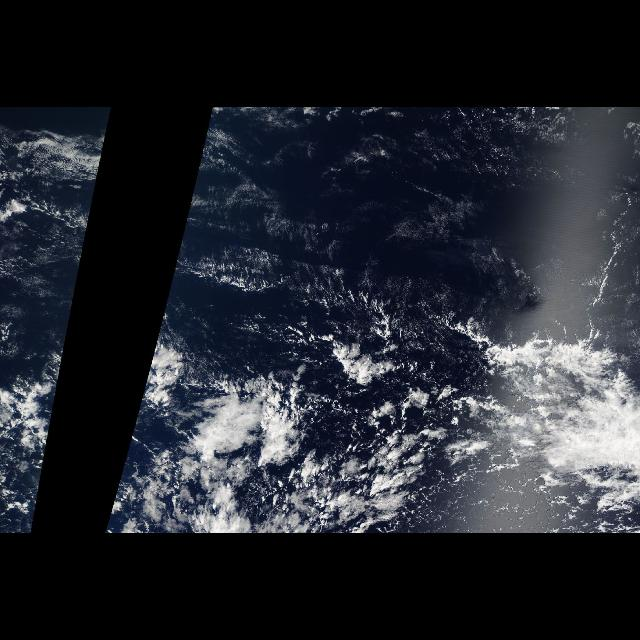Sugar: (173, 108, 632, 298), (10, 108, 111, 272)
